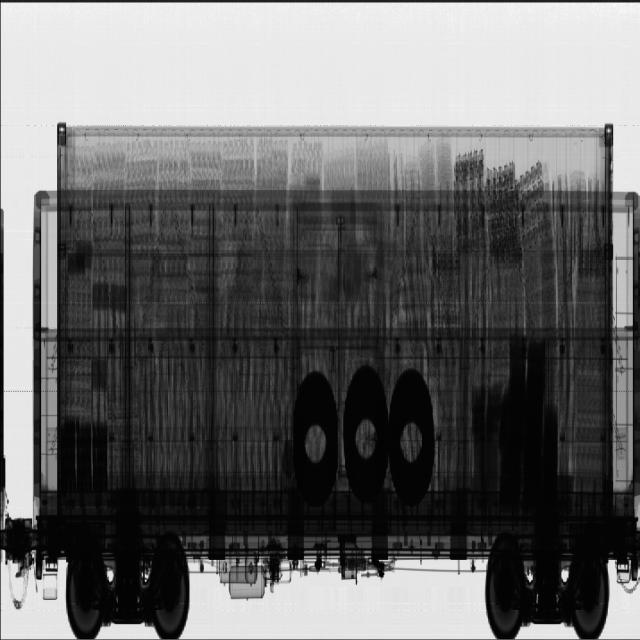shoes: (68, 139, 452, 212)
